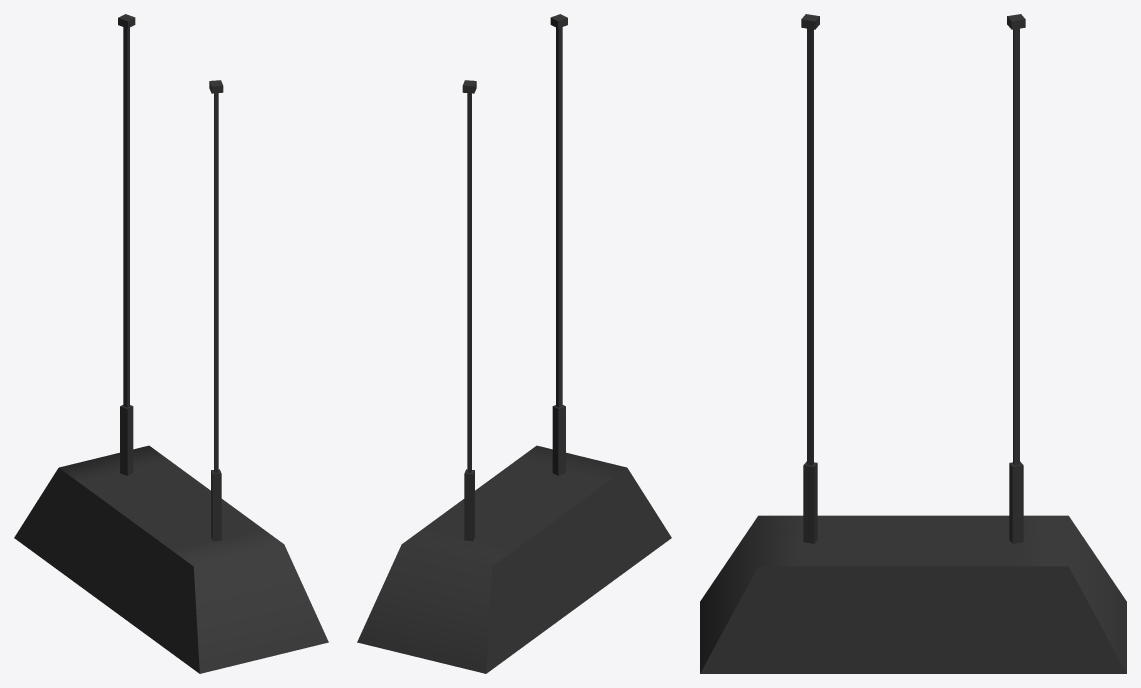
File: light.dae
3 renders of one model, left to right at view 1: azimuth 30°, elevation 25°; view 2: azimuth 150°, elevation 25°; view 3: azimuth 270°, elevation 25°, orthographic. The views are drawn at different scales.
Parts seen in each view (by area): view 1: light; view 2: light; view 3: light.
Part boxes in pixels (x1,y1,x2,y2): light: (14,14,328,673); light: (357,14,671,673); light: (700,14,1126,673).
Size of the model in its own units: 72.87 by 291 by 182.
